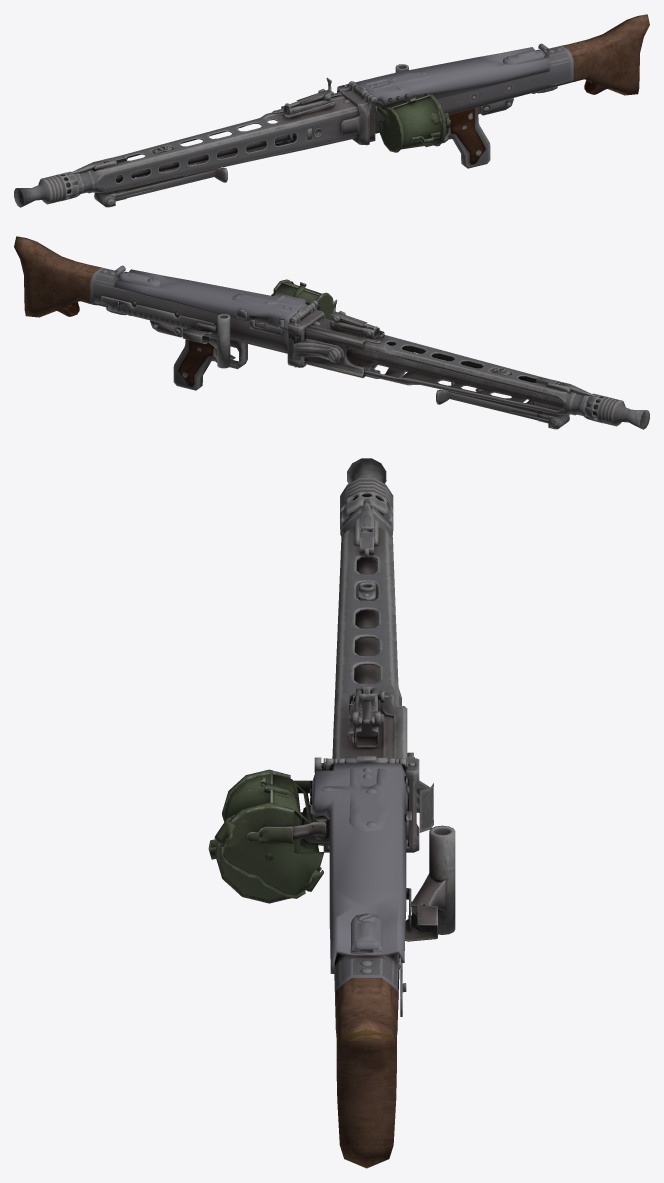
3 views of the same model, one above another, from view 1: azimuth 30°, elevation 25°; view 2: azimuth 150°, elevation 25°; view 3: azimuth 270°, elevation 25° (orthographic). The views are drawn at different scales.
Visible parts, largest first — view 1: MG42; view 2: MG42; view 3: MG42.
Boxes of the visible parts, bbox=[...] form: MG42: bbox=[14, 14, 649, 207]; MG42: bbox=[14, 236, 649, 429]; MG42: bbox=[208, 458, 455, 1168].
Size of the model in its own units: 1.21 by 0.2241 by 0.2065.
1 material, 1 textured.
